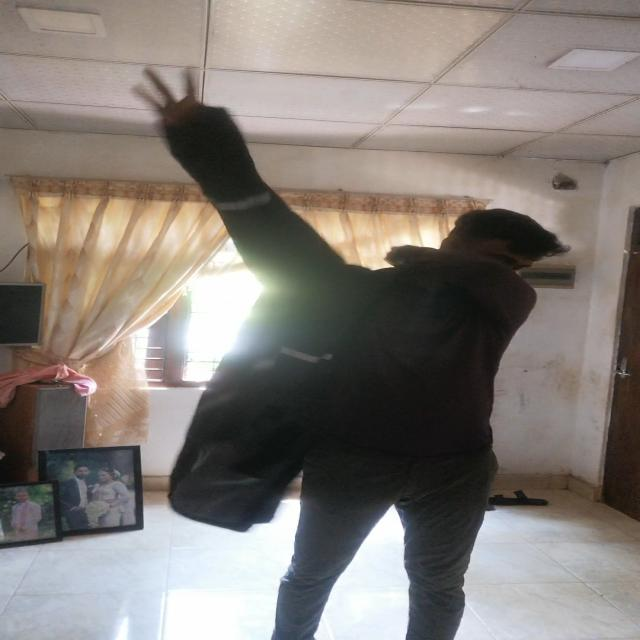Jacket_Wearer: (151, 90, 393, 557)
Person: (144, 70, 575, 640)
